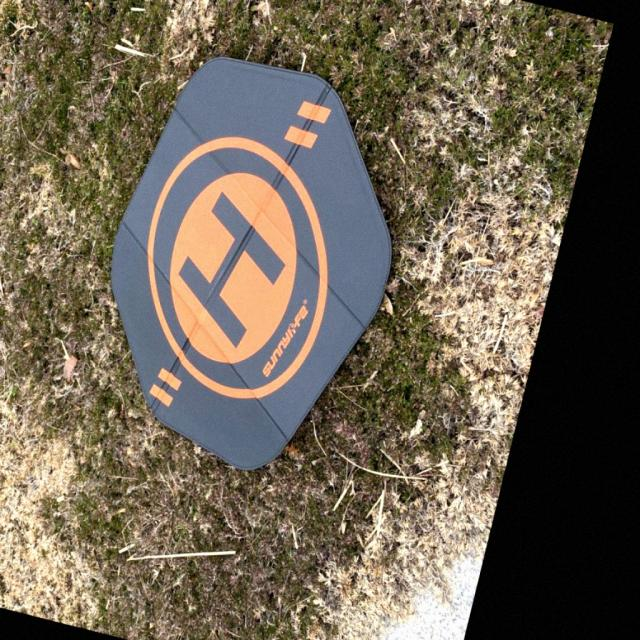helipad: (143, 134, 338, 401)
